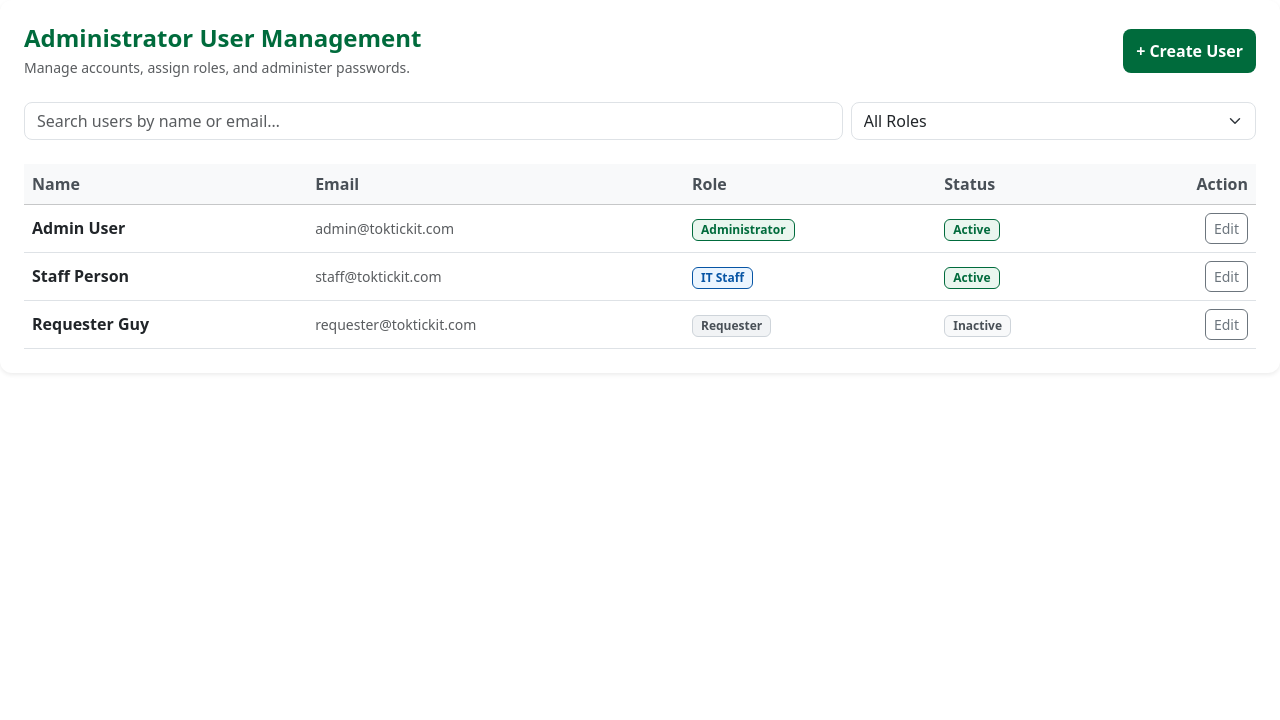
UserManagement Component (Lab 3) › Edit User Panel & Business Rules › UI-07: Deactivate button is disabled with tooltip when editing the logged-in Admin's own row (AC-09, FR-30)
Expected: the text "Admin User" is shown, [24,204,307,252]
Open Edit panel for the logged-in Admin (usr_admin_01)
Click the button with test id "edit-user-usr_admin_01": {"x": 1226, "y": 228} [1205,213,1248,244]
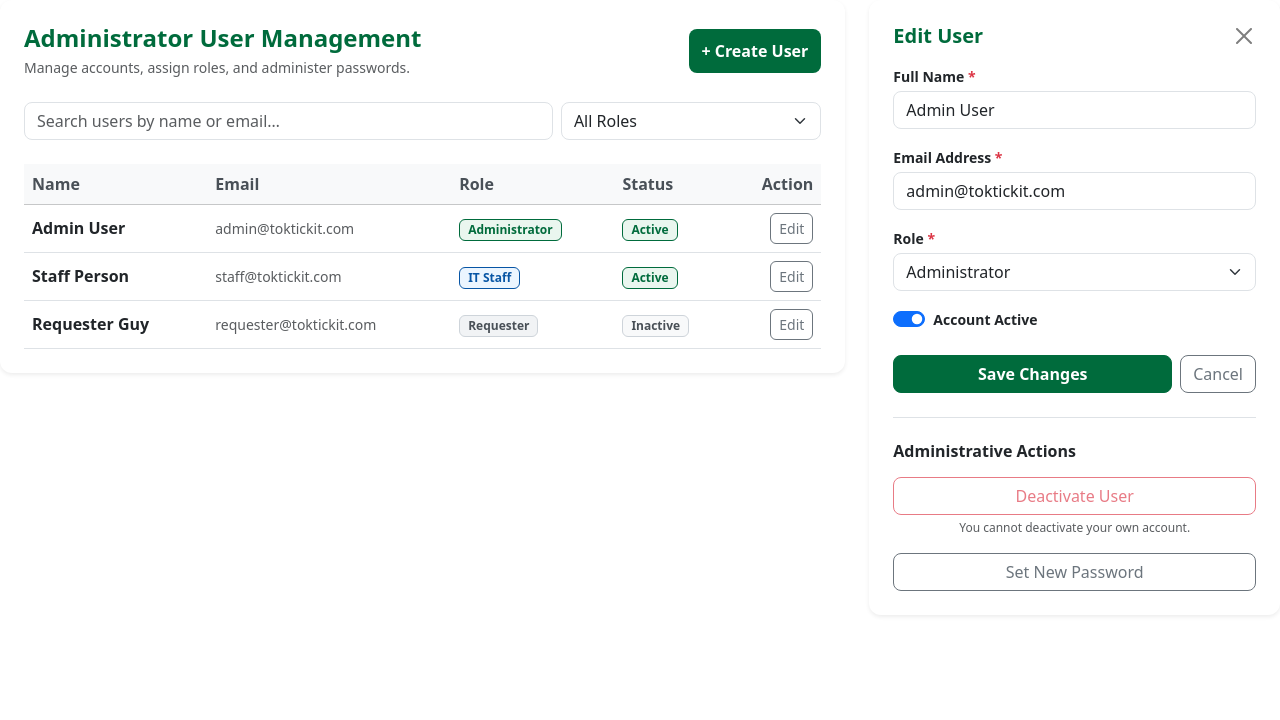
Result: the heading "Edit User" is shown at [893,24,983,48]
Result: the button with test id "deactivate-user-btn" is disabled at [893,477,1256,515]
